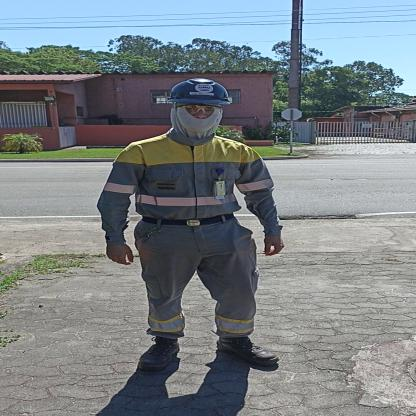Balaclava: (170, 101, 219, 140)
Capacete: (166, 77, 229, 102)
